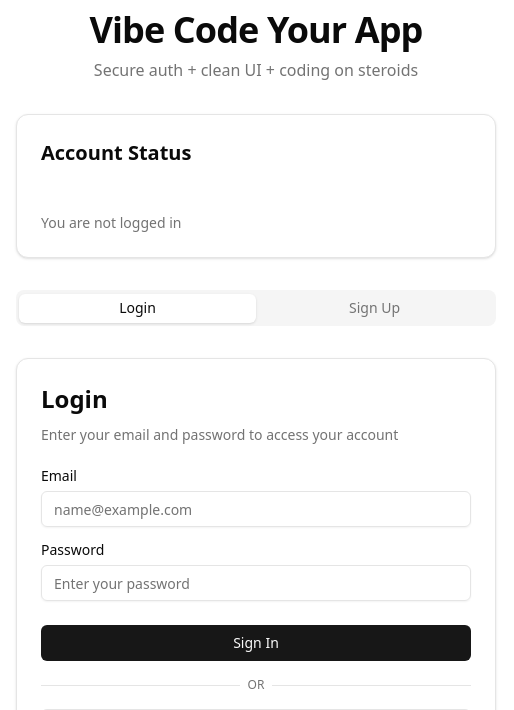
Scenario: AuthDemo Component › switches to signup form when signup tab is clicked
The width and height of the screenshot is (514, 710).
Click the tab "Sign Up".
click(374, 308)  # box x1=256 y1=294 x2=493 y2=322
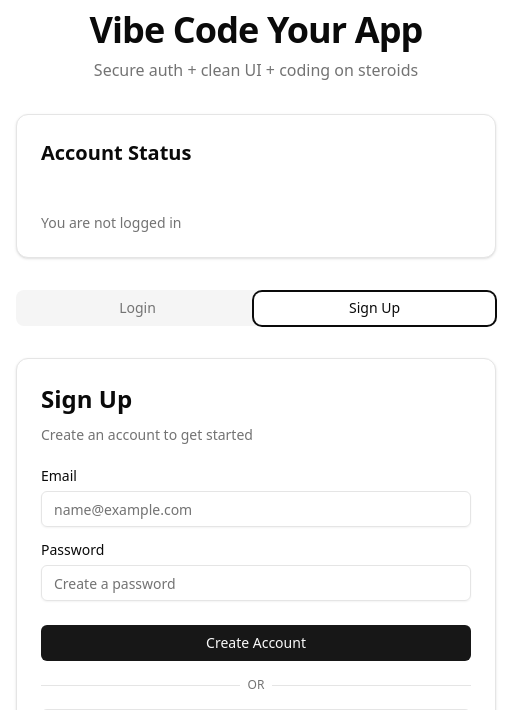
Check: the button "Create Account" is shown, box x1=41 y1=625 x2=471 y2=661
